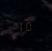one: (19, 20, 25, 31)
zero: (26, 19, 32, 30)
